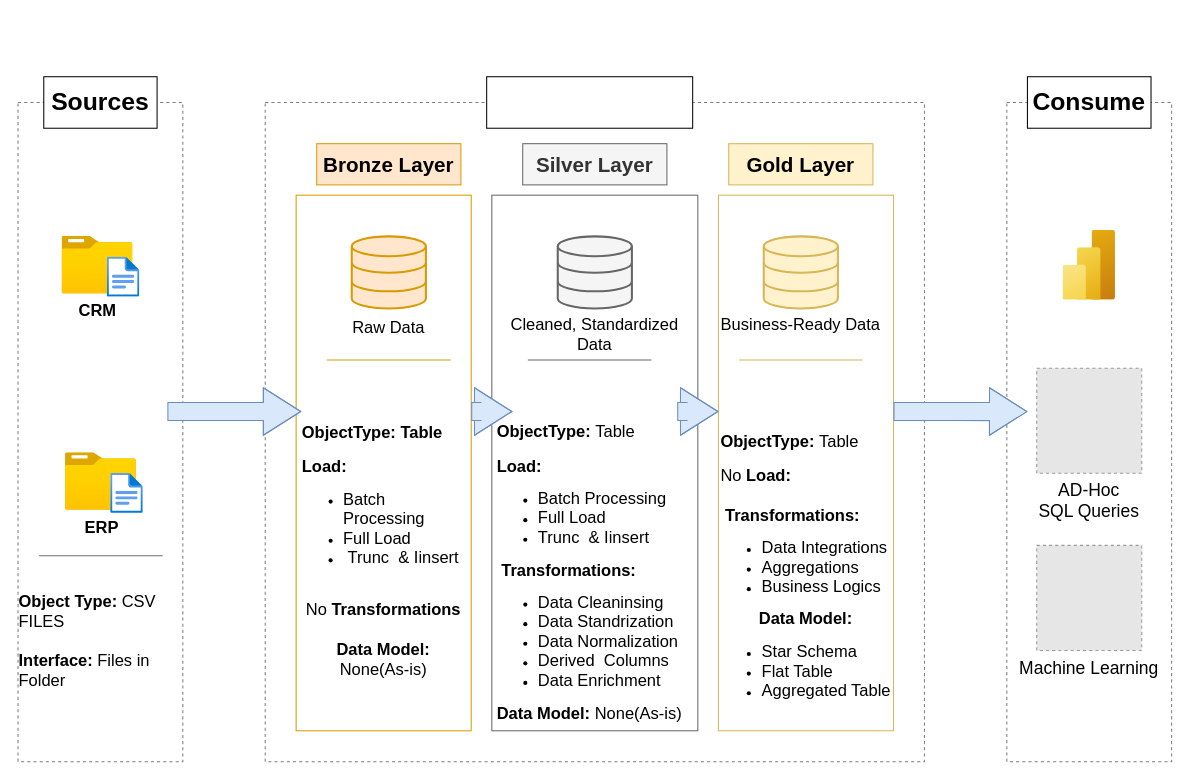
Some shapes in this 1190 by 780 pixel diagram are drawn without their labels. Grey dashed boxes stand in for pictures. Here are the shapes that lost their labels. From the top down, the centre of each, then its label:
point (589, 102): Date Warehouse
point (1088, 265): BI & Reporting
